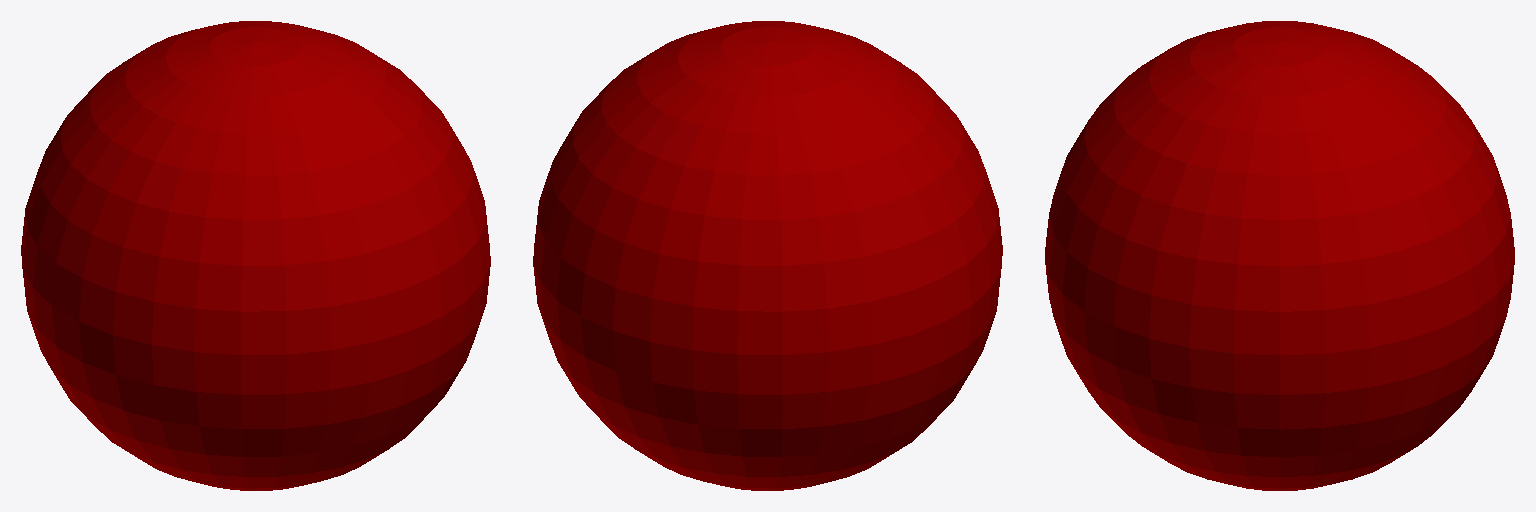
The model's file is button2.obj.
The picture shows the model from 3 angles: view 1: azimuth 30°, elevation 25°; view 2: azimuth 150°, elevation 25°; view 3: azimuth 270°, elevation 25°; orthographic projection.
Parts seen in each view (by area): view 1: Sphere; view 2: Sphere; view 3: Sphere.
Boxes of the visible parts, x1=… form: Sphere: x1=21, y1=21, x2=490, y2=490; Sphere: x1=533, y1=21, x2=1002, y2=490; Sphere: x1=1045, y1=21, x2=1514, y2=490.
Size of the model in its own units: 2 by 2 by 2.